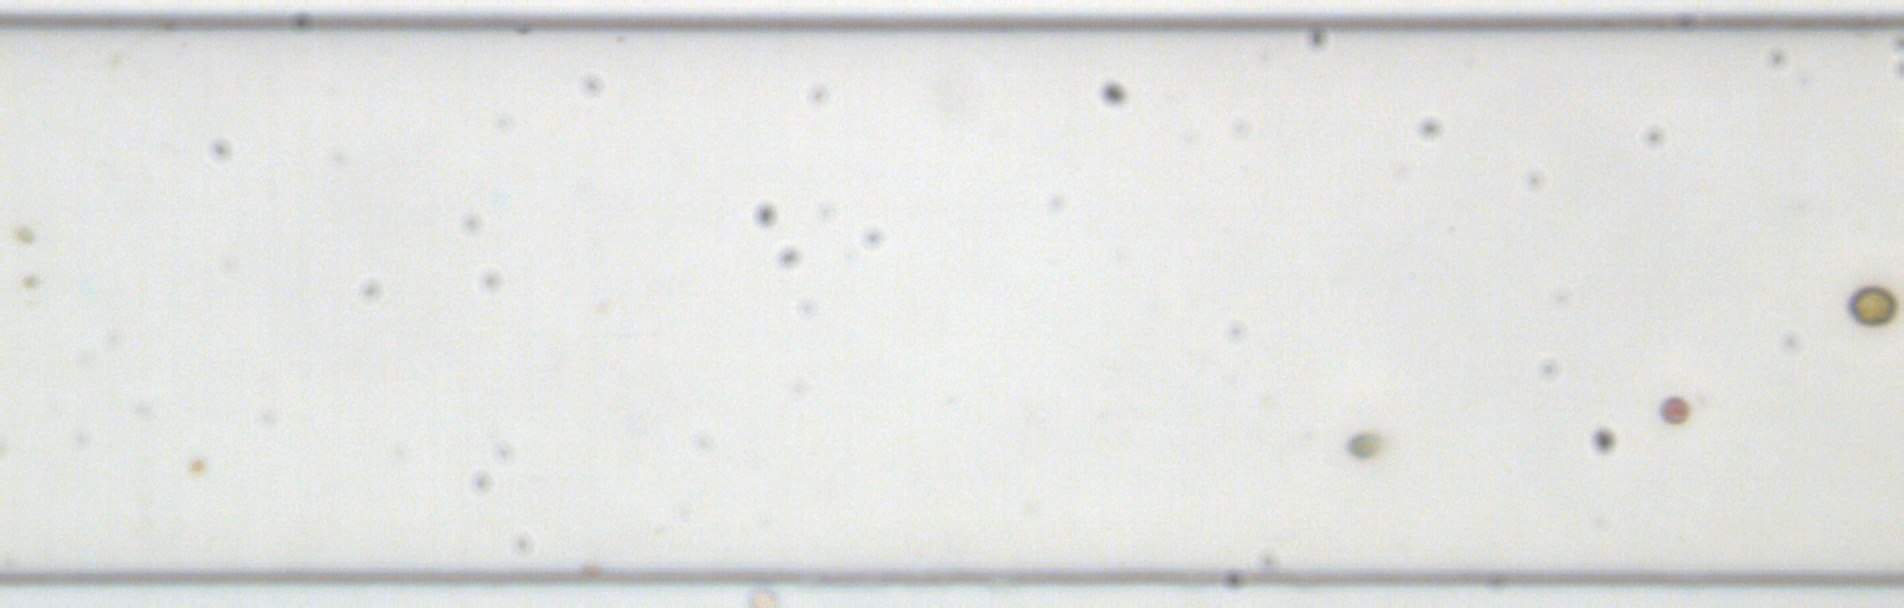Chlorella: (13, 225, 34, 246), (19, 272, 41, 291), (187, 455, 206, 473)
Dunaliella salina: (1344, 430, 1385, 461)
Effrenium: (1844, 282, 1897, 328)
Porphyridium: (1657, 394, 1690, 425)
